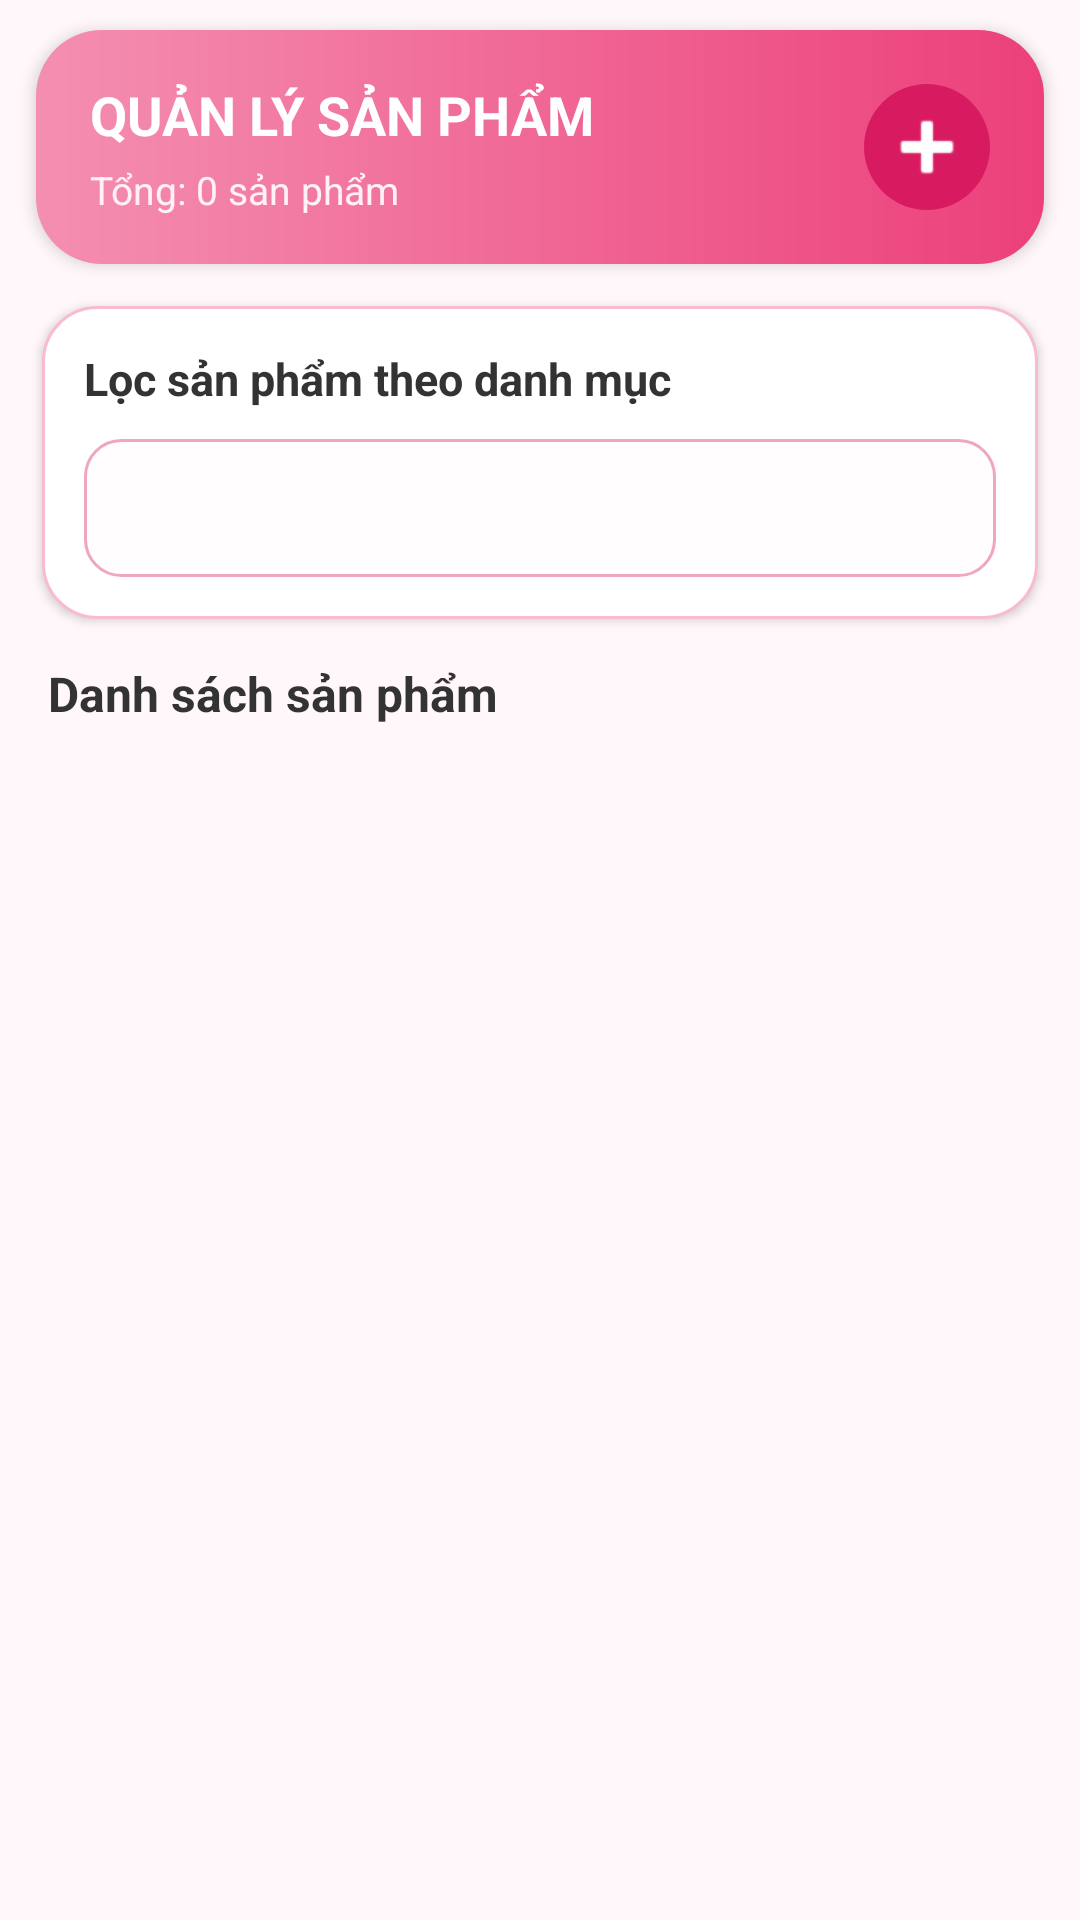

Named icons in this screenshot (1080px x 1920px) and their bounding boxes, rect(x1, y1, x2, y2):
Thêm sản phẩm: rect(864, 84, 990, 210)
